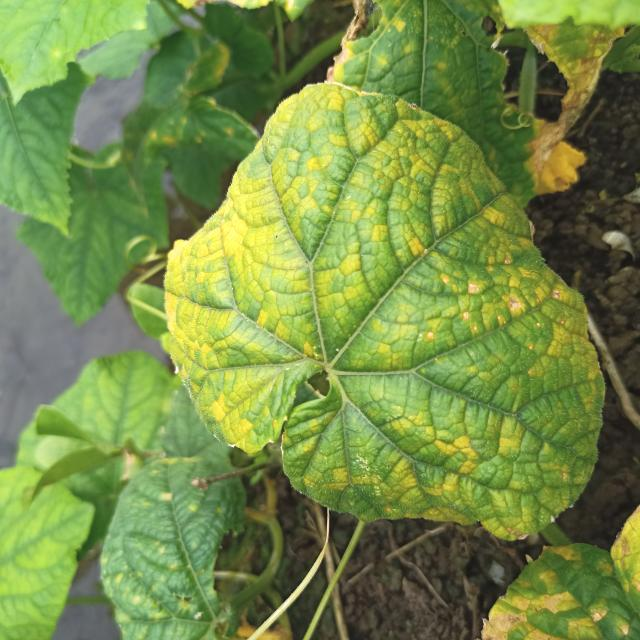disease_cucumber: (170, 86, 598, 518)
